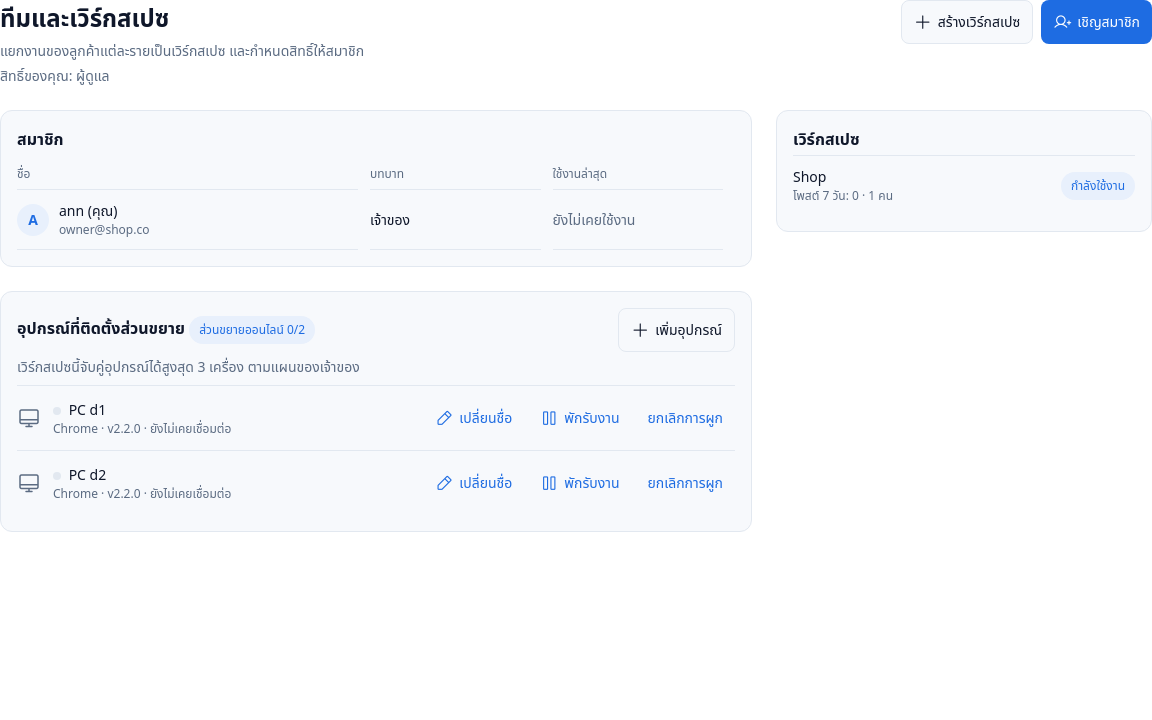
Test: TeamPageComponent › renaming to a name another extension has › shows the server's refusal under the field, keeps the dialog open and the old name
Click the button "เปลี่ยนชื่อ" in the row of "PC d1" at coordinates (474, 418), box [423, 396, 524, 440]
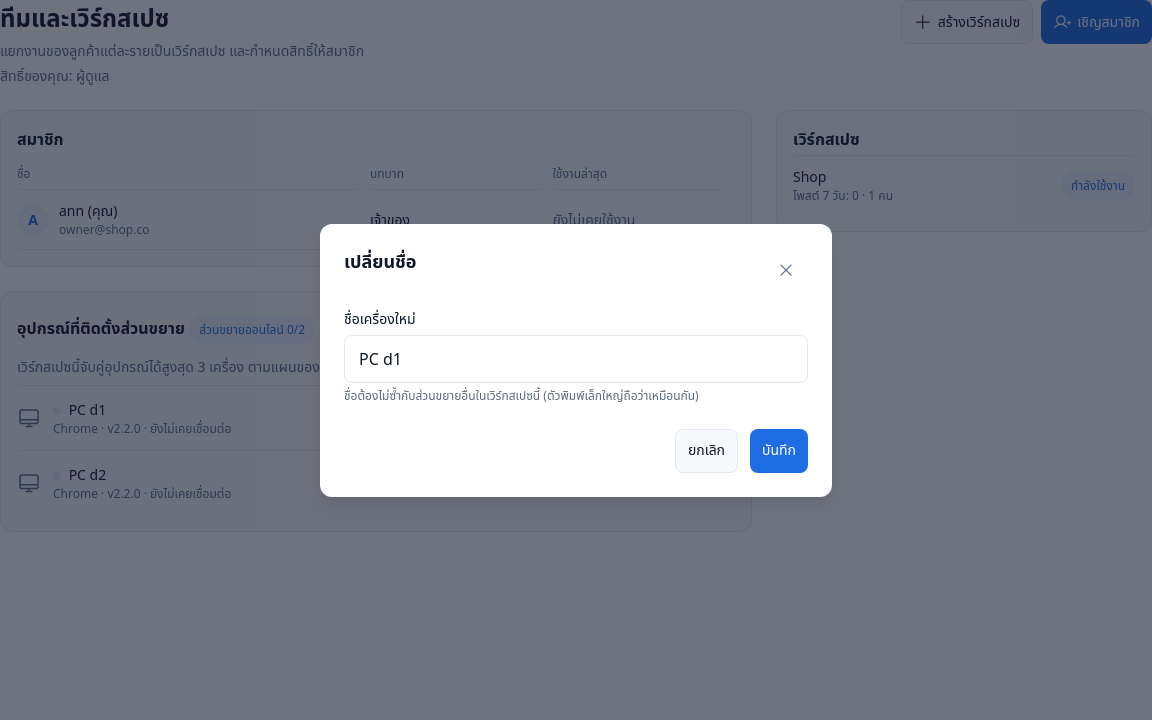
Replace the text in the field labelled "ชื่อเครื่องใหม่" with "PC d2" at coordinates (576, 358), box [344, 334, 808, 382]
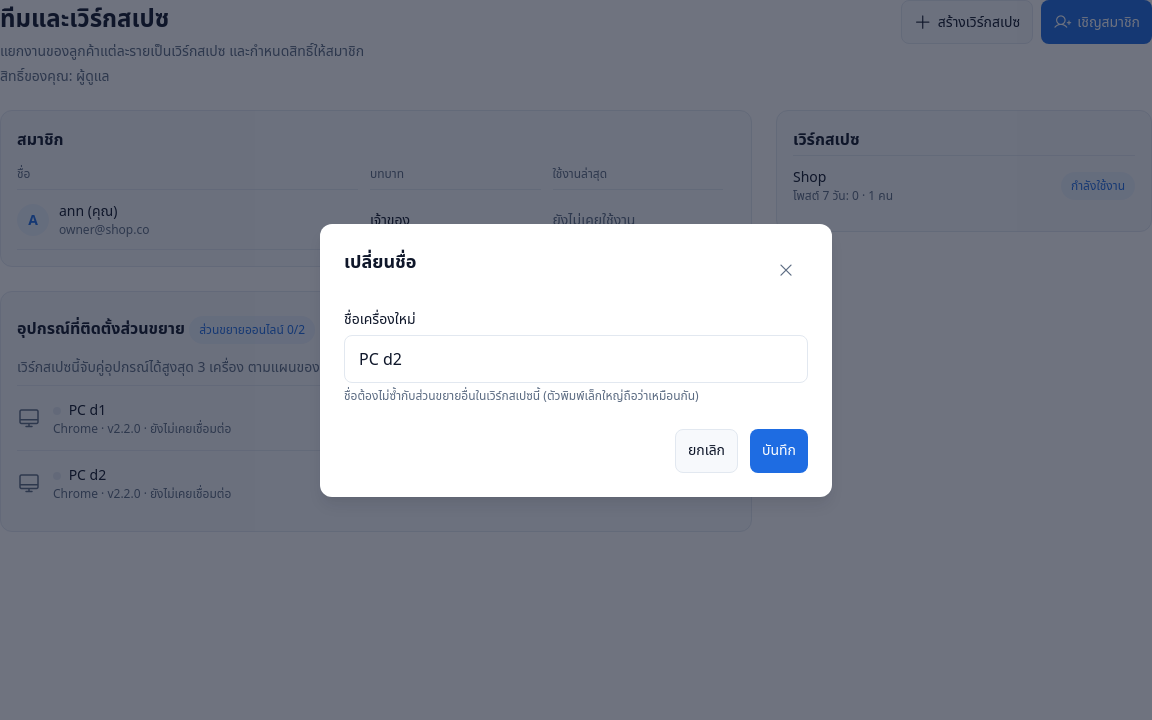
Click the button with class "su-btn-primary" showing "บันทึก" at coordinates (779, 450), box [750, 428, 808, 472]
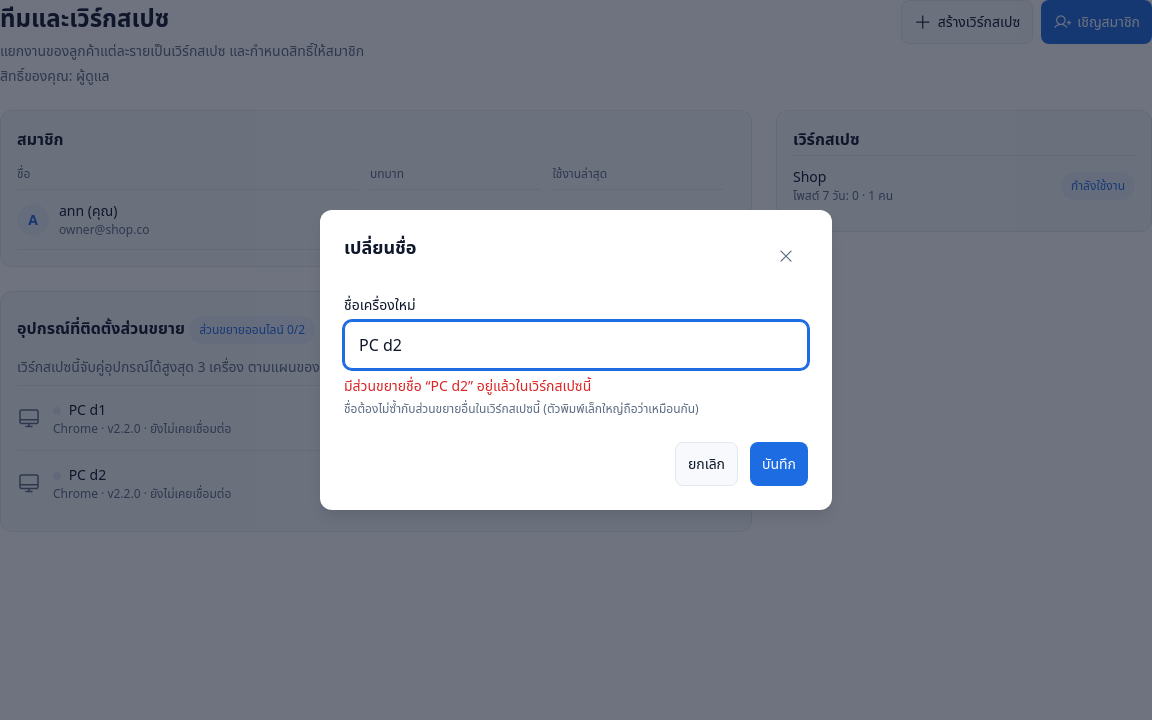
Expected: the text "PC d1" is shown, [53, 400, 106, 418]
Now the button with class "su-btn-primary" showing "บันทึก" is enabled, box [750, 442, 808, 486]
Now the message with class "su-field-err" reads "มีส่วนขยายชื่อ “PC d2” อยู่แล้วในเวิร์กสเปซนี้", box [344, 376, 591, 395]
